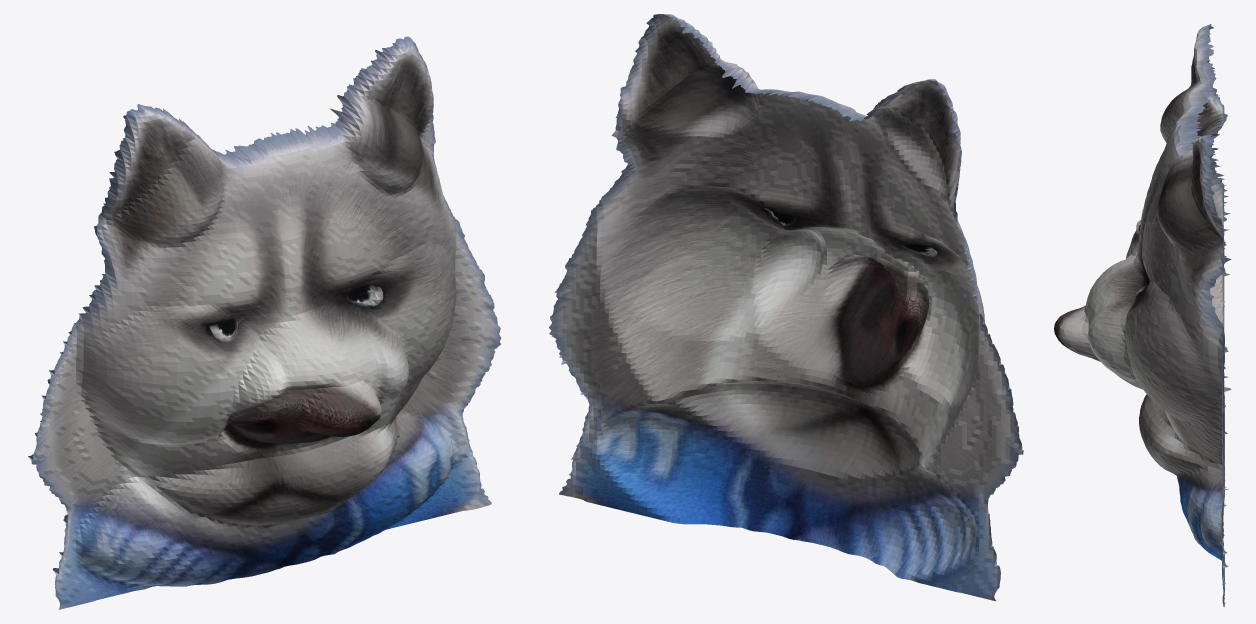
The model's file is husky_3d.obj.
3 views of the same model, side by side, from view 1: azimuth 30°, elevation 25°; view 2: azimuth 150°, elevation 25°; view 3: azimuth 270°, elevation 25° (orthographic). The views are drawn at different scales.
Parts seen in each view (by area): view 1: HuskyHead; view 2: HuskyHead; view 3: HuskyHead.
Boxes of the visible parts, x1,y1,x2,y2 form: HuskyHead: (28, 36, 501, 609); HuskyHead: (549, 14, 1023, 600); HuskyHead: (1054, 24, 1231, 606).
Bounding box in the file's own units: 2.87 × 2.85 × 1.11.
Materials: 1 (1 with a texture image).
